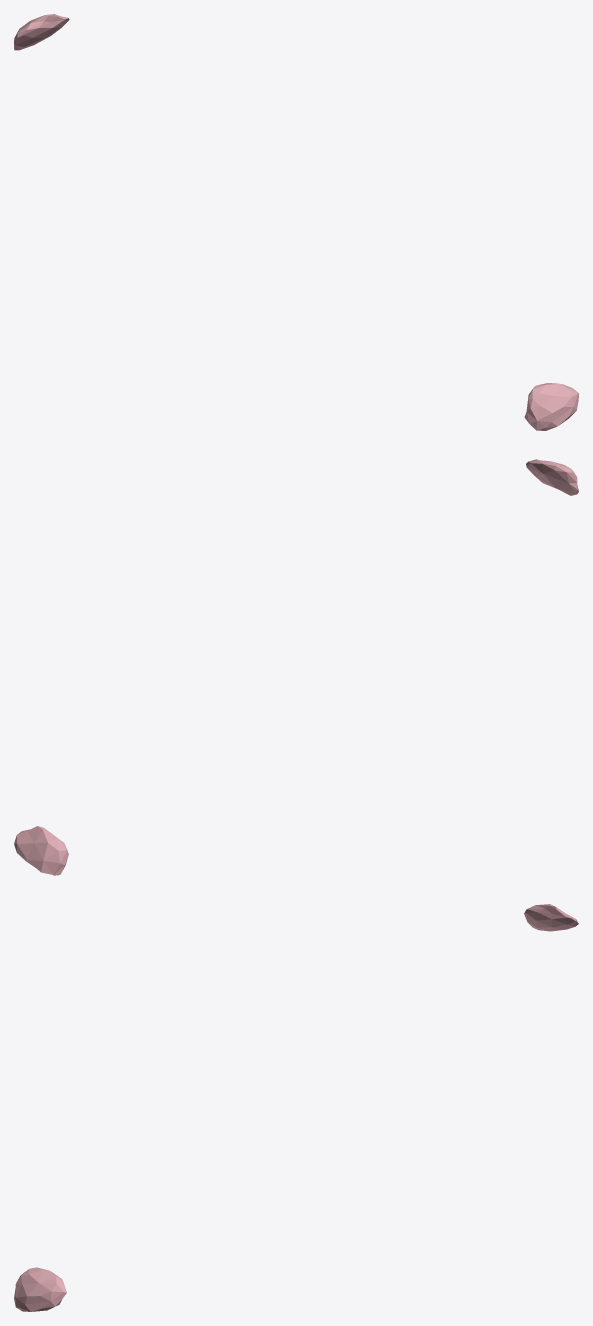
3 views of the same model, one above another, from view 1: azimuth 30°, elevation 25°; view 2: azimuth 150°, elevation 25°; view 3: azimuth 330°, elevation 25° (orthographic).
Visible parts, largest first — view 1: 321.obj; view 2: 321.obj; view 3: 321.obj.
Part boxes in pixels (x1,y1,x2,y2): 321.obj: (14, 14, 578, 430); 321.obj: (14, 459, 578, 875); 321.obj: (14, 904, 578, 1311).
Bounding box in the file's own units: 310 × 204 × 5259.
